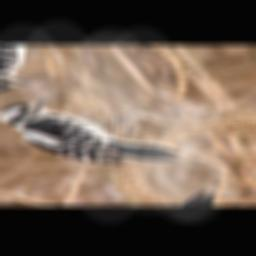Woodpecker: (0, 80, 189, 190)
